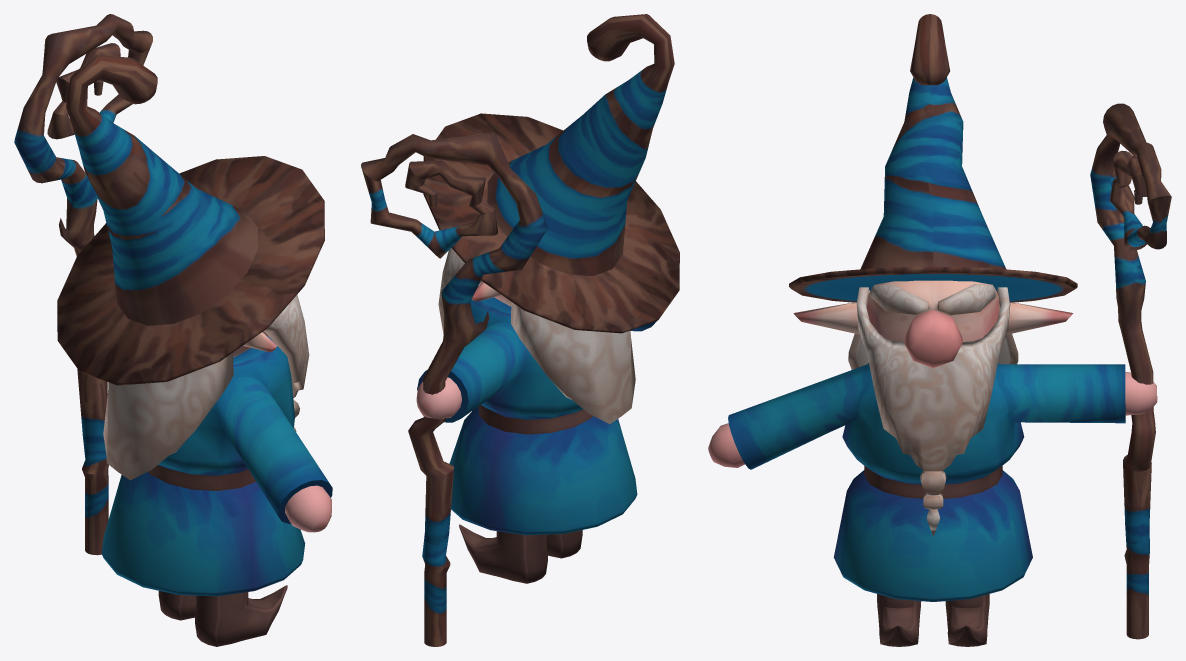
File: Gnome.fbx
The picture shows the model from 3 angles, left to right: view 1: azimuth 30°, elevation 25°; view 2: azimuth 150°, elevation 25°; view 3: azimuth 270°, elevation 25°; orthographic projection. The views are drawn at different scales.
Parts seen in each view (by area): view 1: Gnome, Gnome hat, Beard; view 2: Gnome, Gnome hat, Beard; view 3: Gnome, Gnome hat, Beard.
Boxes of the visible parts, x1,y1,x2,y2 form: Gnome: (14,14,332,646); Gnome hat: (57,54,324,385); Beard: (103,295,309,480); Gnome: (361,132,656,646); Gnome hat: (423,14,679,333); Beard: (438,248,635,423); Gnome: (708,103,1171,646); Gnome hat: (789,14,1077,302); Beard: (848,287,1018,535).
Bounding box in the file's own units: 76.56 × 185 × 136.
